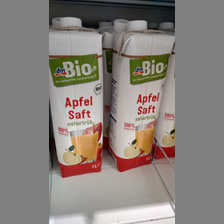juice: (109, 20, 173, 169), (50, 18, 104, 178)
